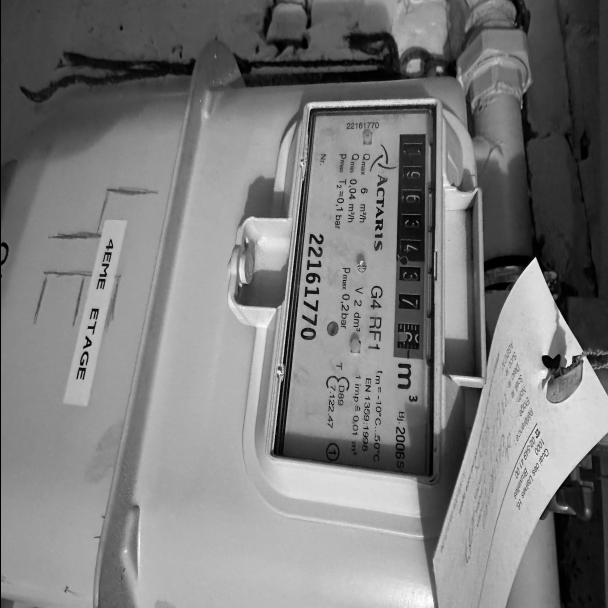1: (400, 140, 425, 168)
3: (394, 264, 424, 290), (397, 214, 425, 238)
4: (394, 236, 426, 266)
6: (392, 321, 422, 360), (396, 188, 426, 216)
7: (394, 288, 422, 314)
9: (399, 166, 425, 190)
cm: (391, 260, 426, 369)
counter: (392, 132, 428, 266)
